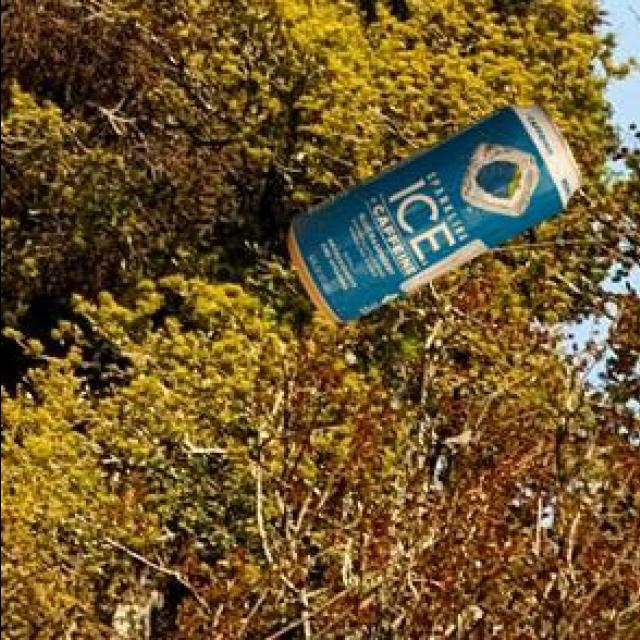logam: (291, 99, 584, 319)
